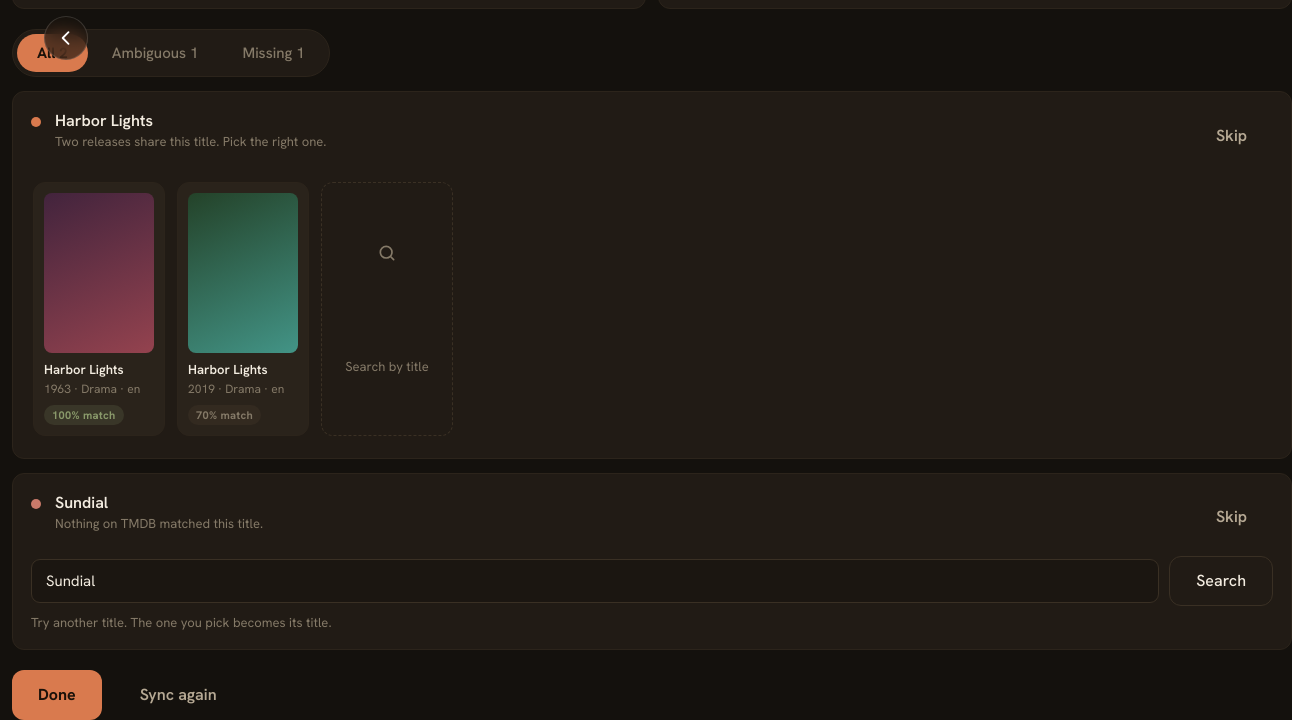
Test: EnrichmentFlow — searching › sends the query as typed and raises Searching TMDB…
(page scrolled)
Expected: the text "Nothing on TMDB matched this title." is shown, [55,515,263,532]
Replace the text in the field with placeholder "Search TMDB by title and year" with "Sundial 2004" at [595, 581], box [31,559,1159,603]
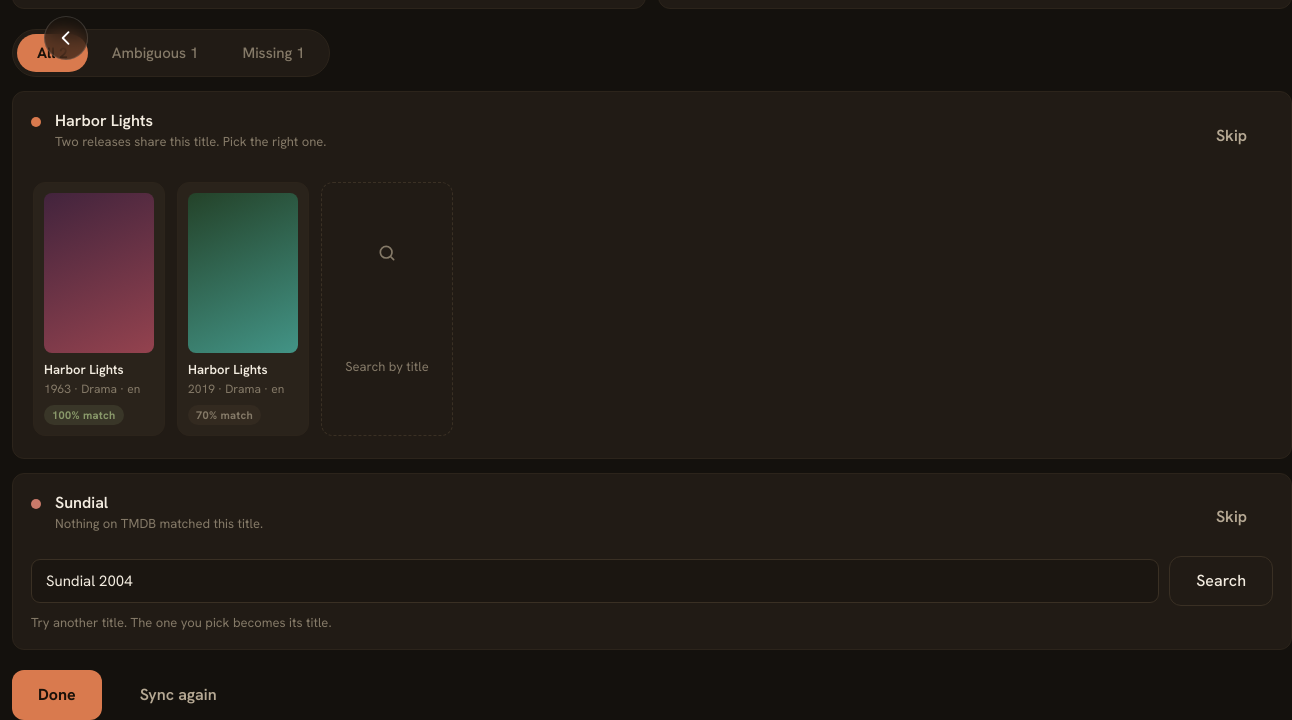
Click the button "Search".
click(1221, 581)  # box [1169,556,1273,606]
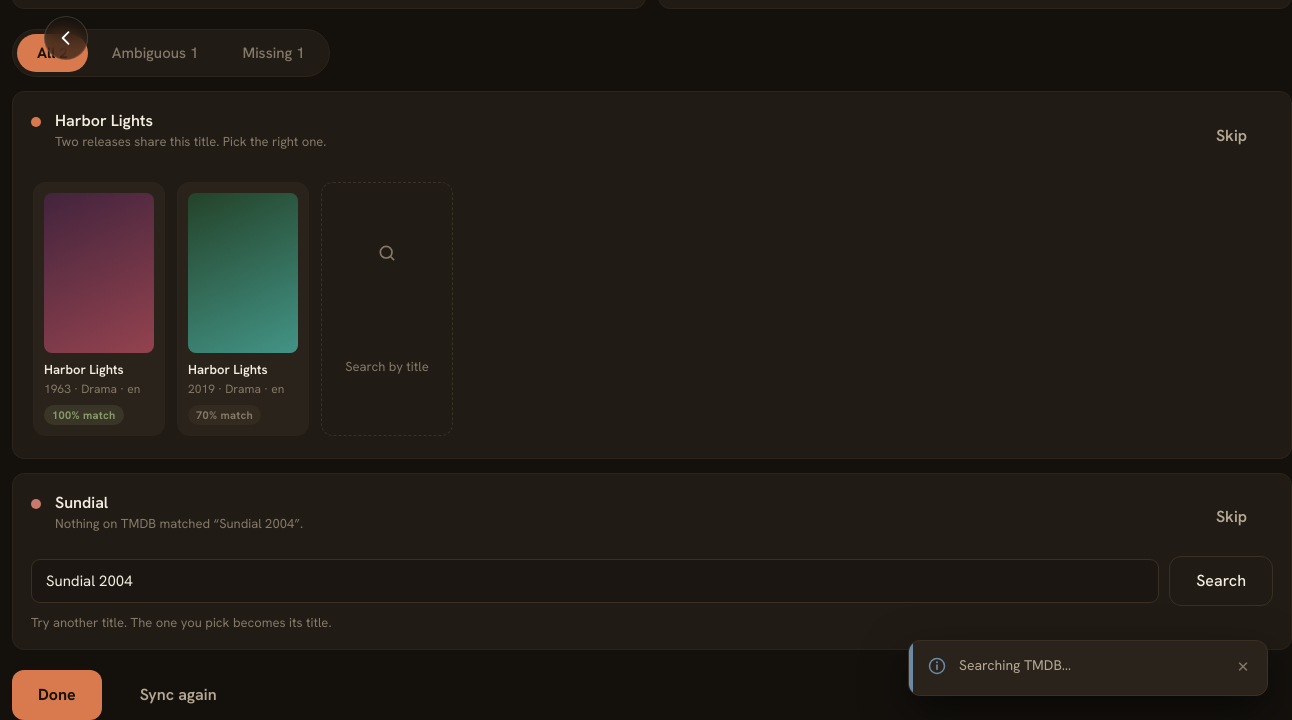
Now the text "Searching TMDB…" is shown, box [959,656,1071,674]
